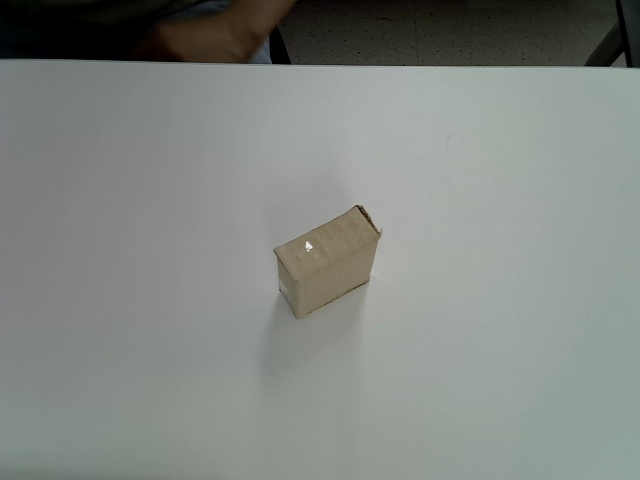normal: (273, 204, 383, 320)
